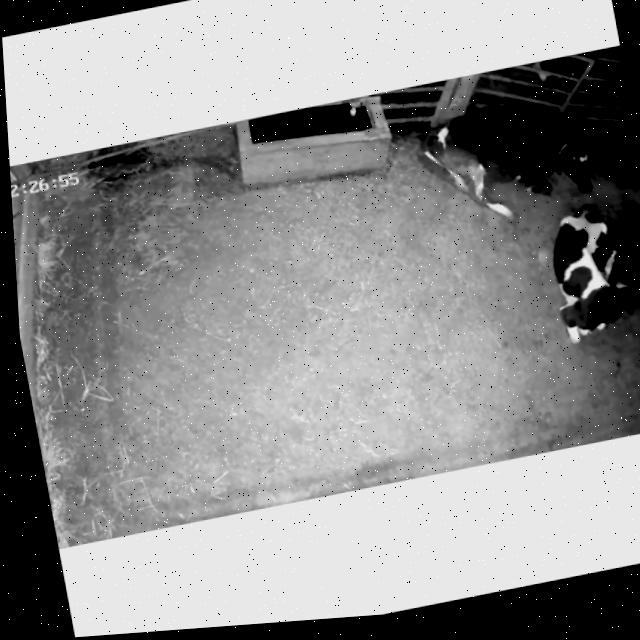lay: (411, 78, 606, 240), (552, 209, 631, 343)
